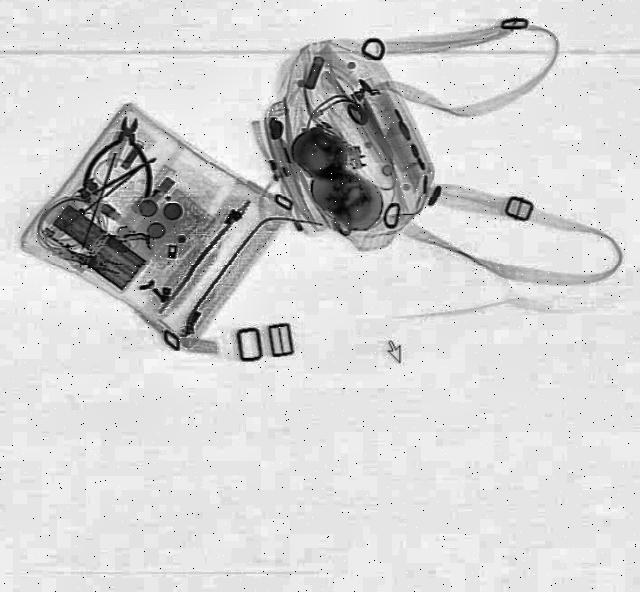Pliers: (83, 113, 167, 203)
